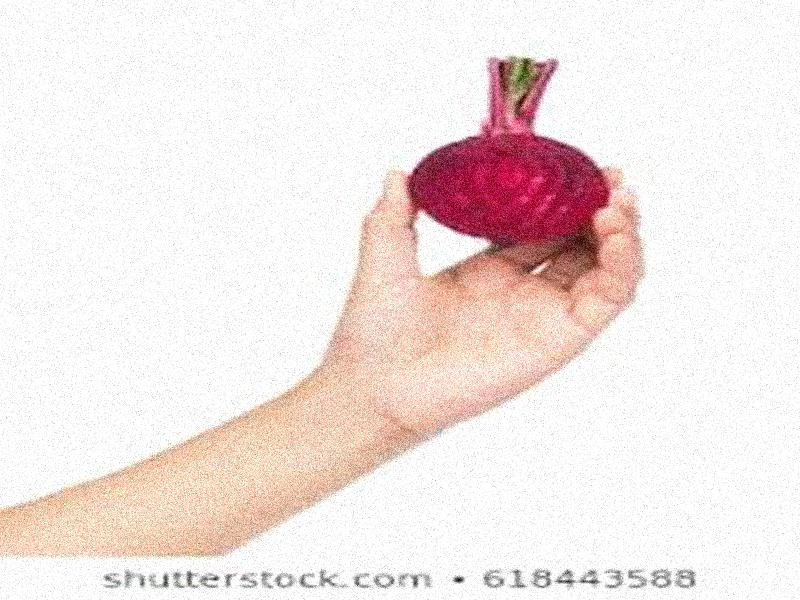Beet: (410, 56, 613, 239)
